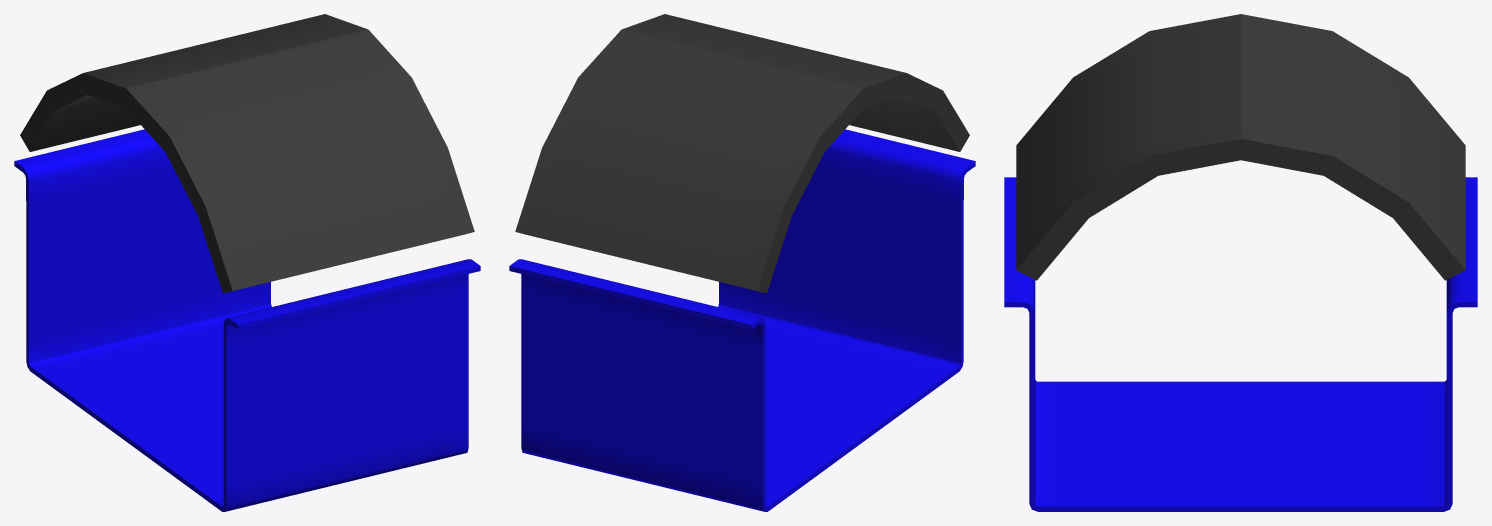
File: SM_PlasticRamp.FBX
The picture shows the model from 3 angles, left to right: view 1: azimuth 30°, elevation 25°; view 2: azimuth 150°, elevation 25°; view 3: azimuth 270°, elevation 25°; orthographic projection. The views are drawn at different scales.
Visible parts, largest first — view 1: SM_PlasticRamp; view 2: SM_PlasticRamp; view 3: SM_PlasticRamp.
Part boxes in pixels (<box>): SM_PlasticRamp: <box>14,14,480,511</box>; SM_PlasticRamp: <box>509,14,975,511</box>; SM_PlasticRamp: <box>1004,14,1477,511</box>.
Bounding box in the file's own units: 100 × 160 × 139.
